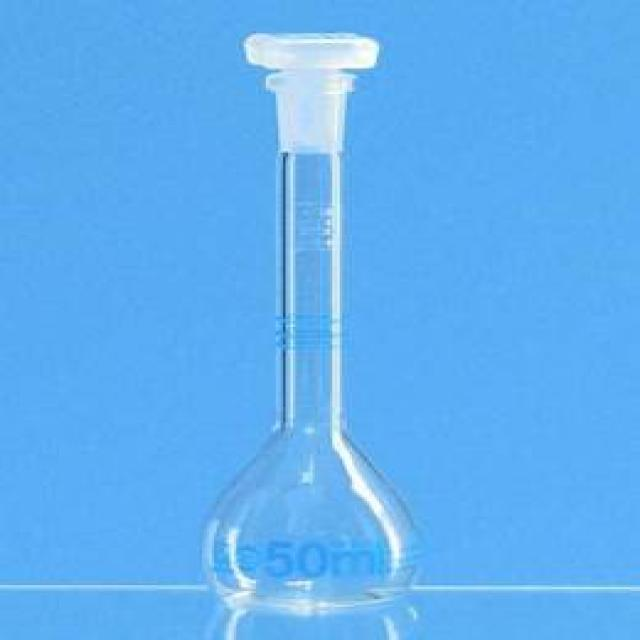Volumetric flask: (206, 27, 422, 605)
